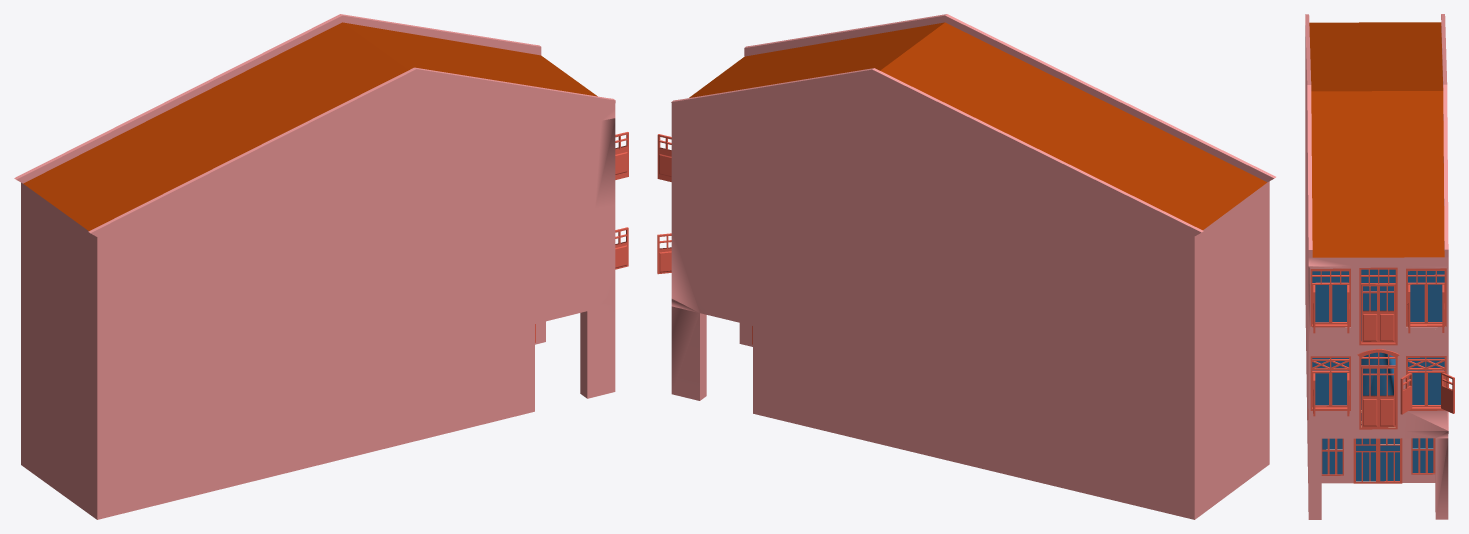
Rendered from red house.fbx.
3 renders of one model, left to right at view 1: azimuth 30°, elevation 25°; view 2: azimuth 150°, elevation 25°; view 3: azimuth 270°, elevation 25°, orthographic. The views are drawn at different scales.
Visible parts, largest first — view 1: red house; view 2: red house; view 3: red house.
Part boxes in pixels (left/top/right/bottom): red house: left=14, top=14, right=628, bottom=519; red house: left=657, top=14, right=1275, bottom=519; red house: left=1305, top=14, right=1454, bottom=519.
Size of the model in its own units: 1605 by 1049 by 413.
